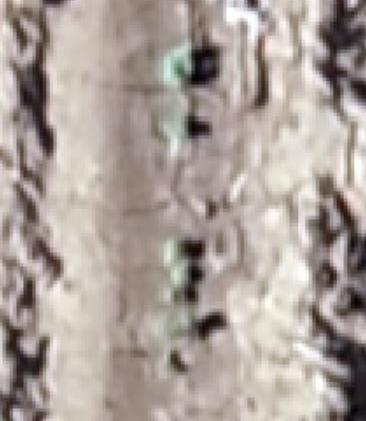cotton: (164, 47, 188, 76), (173, 258, 187, 284), (166, 119, 185, 136), (165, 239, 179, 261), (182, 311, 193, 329)
